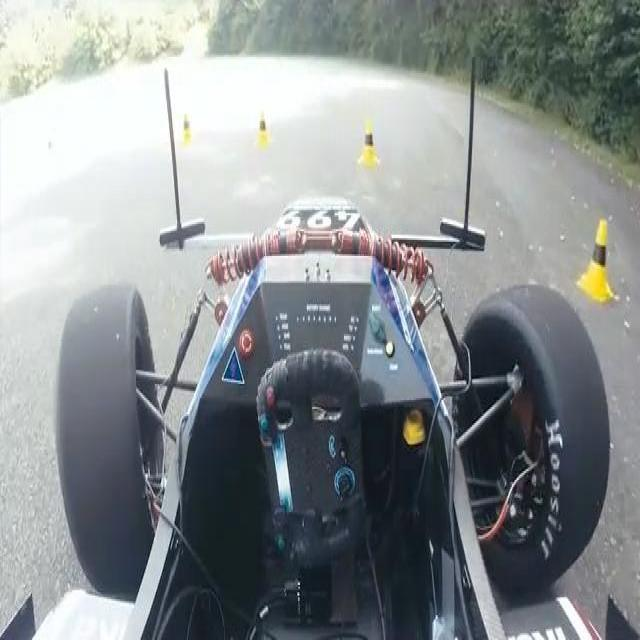yellow_cone: (578, 219, 615, 303), (358, 119, 381, 170)
